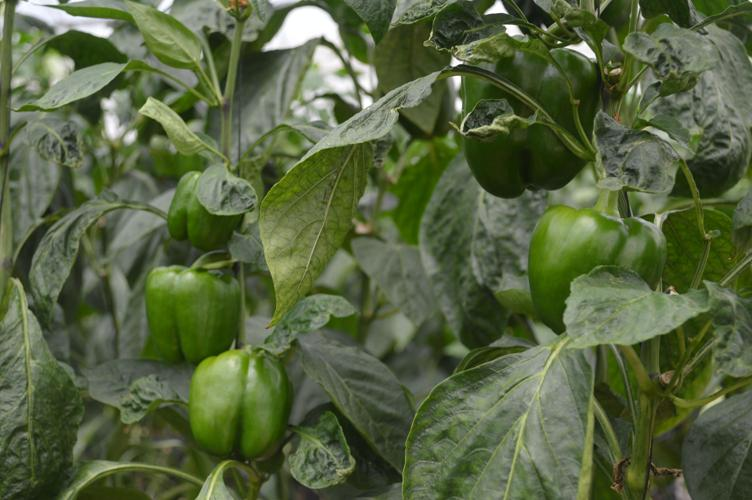BellPepper: (464, 50, 598, 195), (520, 206, 670, 325), (188, 349, 291, 457), (138, 266, 244, 354), (160, 174, 234, 247), (147, 136, 204, 178)
